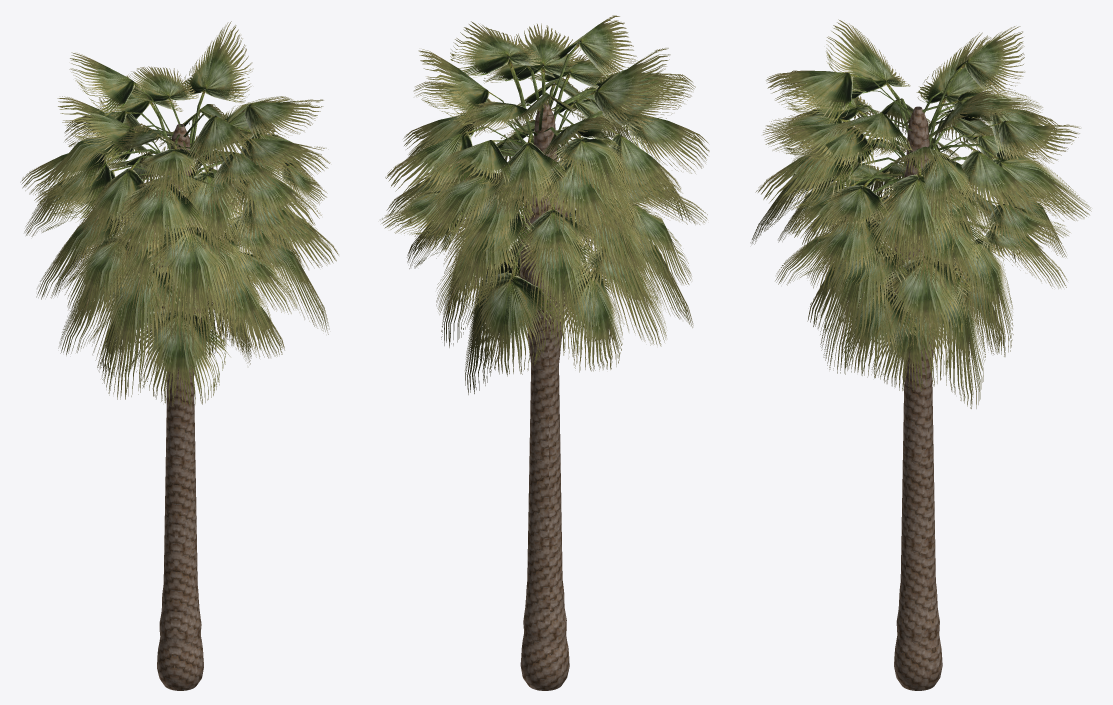
Rendered from free_game_ready_palm.glb.
3 views of the same model, side by side, from view 1: azimuth 30°, elevation 25°; view 2: azimuth 150°, elevation 25°; view 3: azimuth 270°, elevation 25° (orthographic). The views are drawn at different scales.
Parts seen in each view (by area): view 1: PalmBark, PalmLeaf.015, PalmLeaf.006, PalmLeaf.007, PalmLeaf.034, PalmLeaf.014, PalmLeaf.027, PalmLeaf.035, PalmLeaf.025, PalmLeaf, PalmLeaf.023, PalmLeaf.017 (+34 smaller); view 2: PalmBark, PalmLeaf.004, PalmLeaf.008, PalmLeaf.011, PalmLeaf.013, PalmLeaf.026, PalmLeaf.005, PalmLeaf.033, PalmLeaf.044, PalmLeaf.022, PalmLeaf.040, PalmLeaf.042 (+34 smaller); view 3: PalmBark, PalmLeaf.001, PalmLeaf.010, PalmLeaf.059, PalmLeaf.009, PalmLeaf.041, PalmLeaf.002, PalmLeaf.012, PalmLeaf.063, PalmLeaf.031, PalmLeaf.029, PalmLeaf.003 (+32 smaller).
Part boxes in pixels (bbox=[...]): PalmBark: bbox=[157, 124, 203, 690]; PalmLeaf.015: bbox=[145, 182, 243, 359]; PalmLeaf.006: bbox=[92, 265, 190, 399]; PalmLeaf.007: bbox=[132, 308, 230, 407]; PalmLeaf.034: bbox=[114, 169, 210, 262]; PalmLeaf.014: bbox=[65, 236, 153, 326]; PalmLeaf.027: bbox=[181, 21, 253, 150]; PalmLeaf.035: bbox=[196, 154, 321, 239]; PalmLeaf.025: bbox=[178, 147, 248, 257]; PalmLeaf: bbox=[194, 272, 273, 350]; PalmLeaf.023: bbox=[80, 156, 151, 245]; PalmLeaf.017: bbox=[24, 149, 158, 236]; PalmBark: bbox=[520, 102, 569, 690]; PalmLeaf.004: bbox=[470, 238, 561, 376]; PalmLeaf.008: bbox=[518, 191, 601, 356]; PalmLeaf.011: bbox=[414, 149, 518, 251]; PalmLeaf.013: bbox=[443, 212, 538, 307]; PalmLeaf.026: bbox=[547, 113, 637, 221]; PalmLeaf.005: bbox=[550, 252, 622, 372]; PalmLeaf.033: bbox=[531, 127, 630, 237]; PalmLeaf.044: bbox=[551, 168, 660, 311]; PalmLeaf.022: bbox=[486, 130, 567, 213]; PalmLeaf.040: bbox=[450, 21, 541, 143]; PalmLeaf.042: bbox=[566, 217, 666, 346]; PalmBark: bbox=[893, 106, 942, 690]; PalmLeaf.001: bbox=[817, 243, 907, 374]; PalmLeaf.010: bbox=[874, 148, 968, 279]; PalmLeaf.059: bbox=[877, 252, 975, 352]; PalmLeaf.009: bbox=[806, 177, 906, 293]; PalmLeaf.041: bbox=[915, 263, 985, 408]; PalmLeaf.002: bbox=[949, 234, 1013, 356]; PalmLeaf.012: bbox=[900, 217, 995, 296]; PalmLeaf.063: bbox=[840, 256, 919, 377]; PalmLeaf.031: bbox=[766, 71, 910, 123]; PalmLeaf.029: bbox=[826, 19, 910, 132]; PalmLeaf.003: bbox=[868, 307, 952, 391].
Bounding box in the file's own units: 4.31 × 9.27 × 4.64.
Materials: 2 (2 with a texture image).
